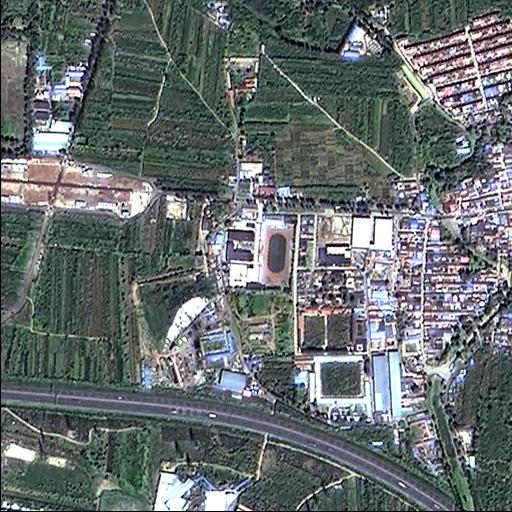school: (220, 221, 296, 290)
